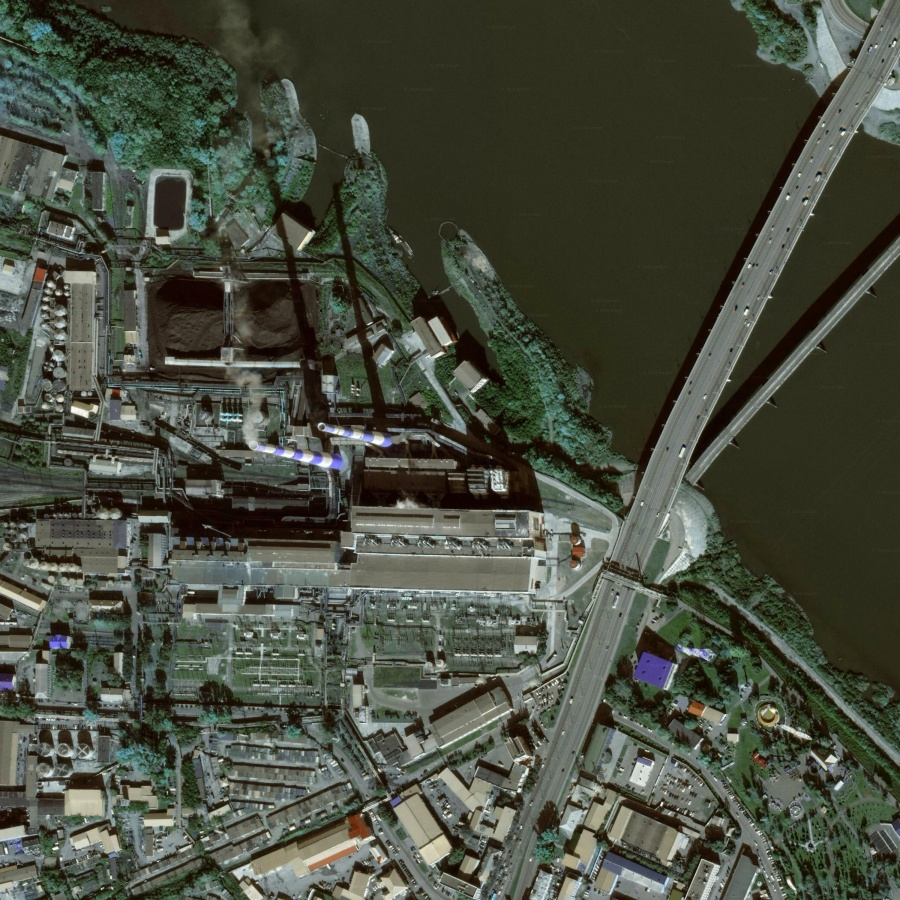PowerPlant: (127, 243, 531, 587)
